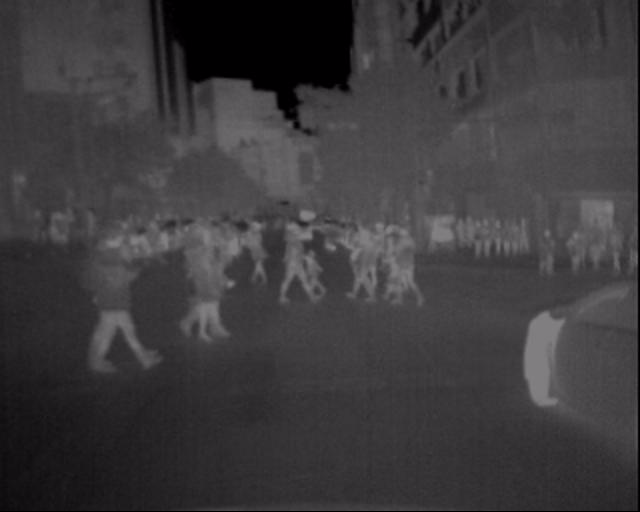person: (35, 212, 149, 387), (189, 217, 243, 345), (435, 217, 532, 277), (540, 220, 640, 274), (283, 212, 331, 313), (240, 219, 283, 292), (388, 220, 421, 309), (189, 220, 222, 304), (350, 221, 381, 306), (179, 215, 204, 281), (301, 247, 328, 300)
